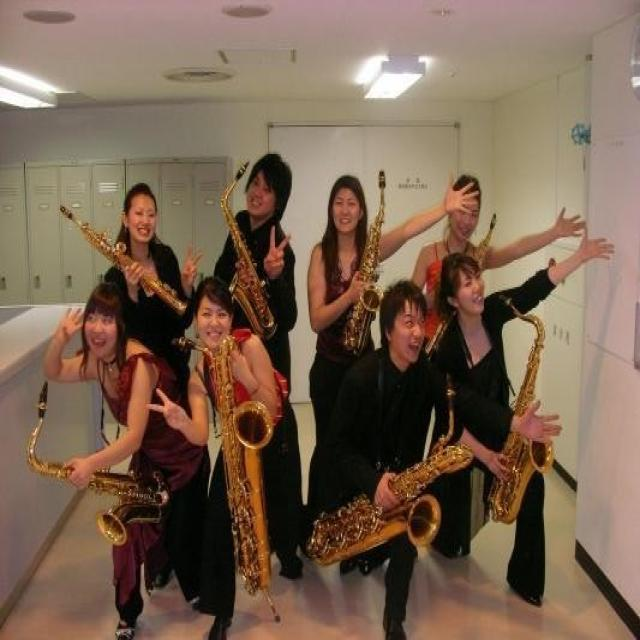saxophone: (306, 368, 476, 575), (167, 333, 280, 600), (26, 378, 171, 546), (483, 292, 555, 523), (217, 157, 278, 336), (341, 168, 391, 360)
